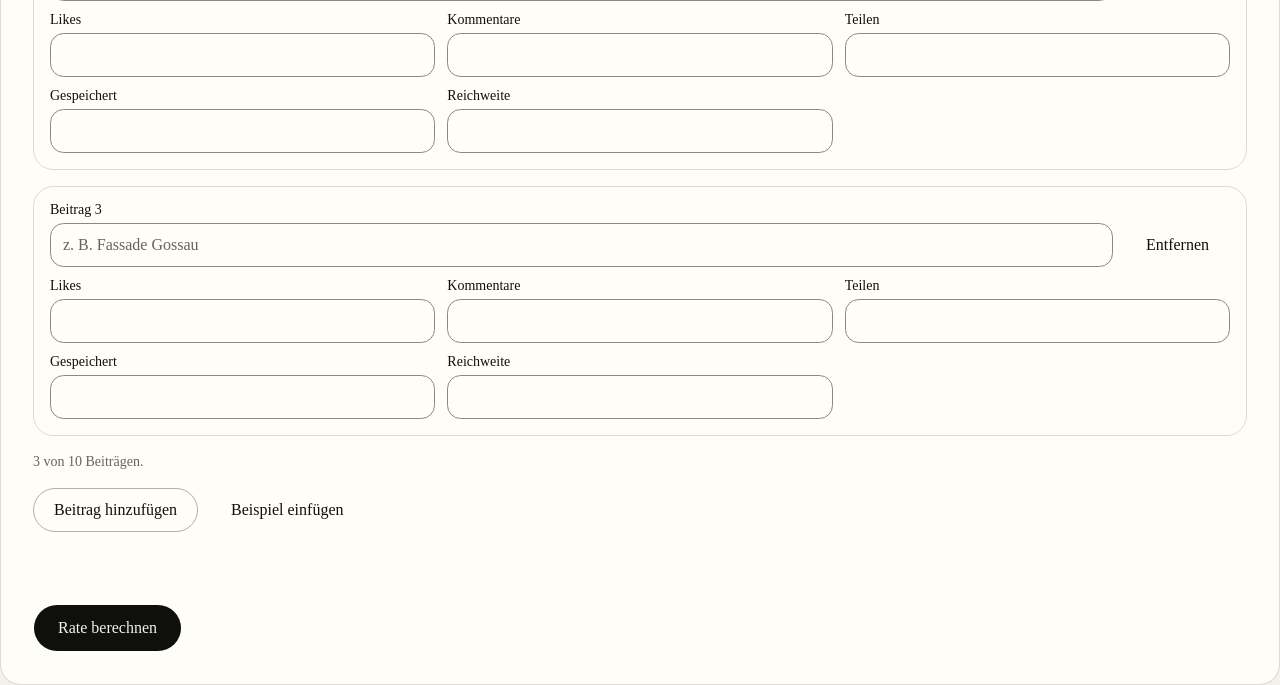
Test: Engagement-Rate-Rechner im Browser › meldet fehlende Follower und fehlende Zahlen in einem role=alert und zeigt kein Ergebnis
(page scrolled)
Click the button "Rate berechnen" at x=108, y=628, box [33,604,182,652]
(page scrolled)
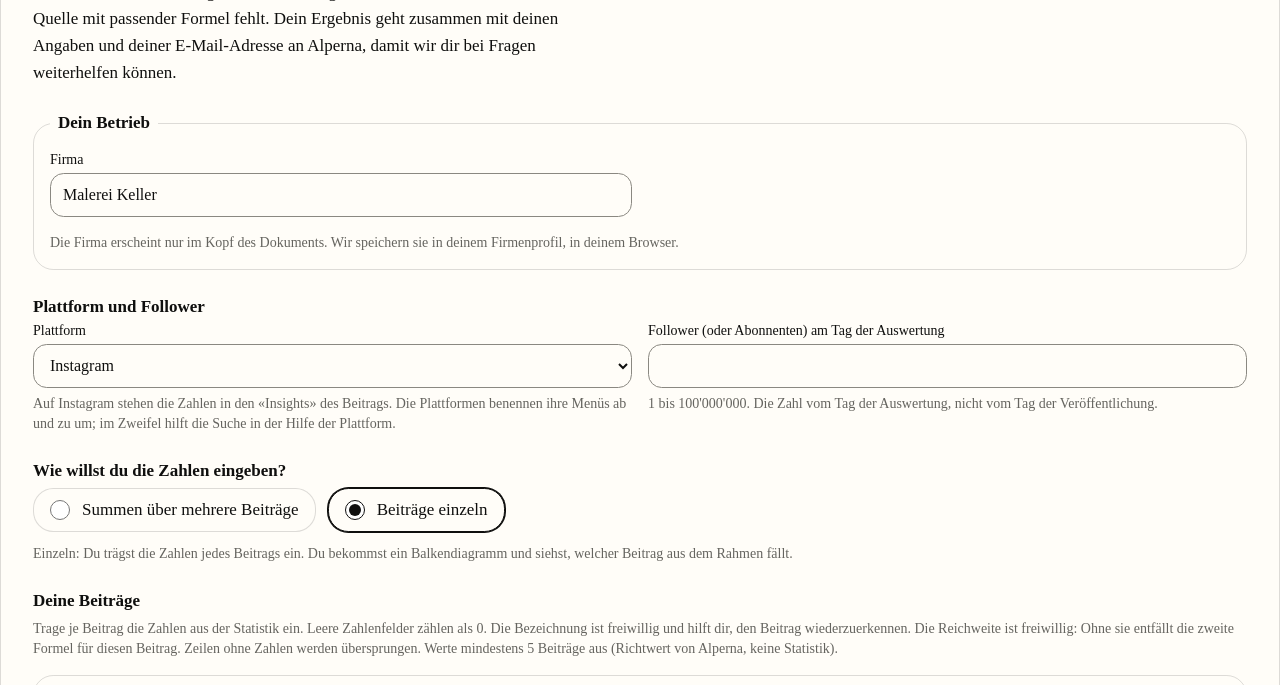
Type "1240" into the number field labelled "Follower (oder Abonnenten) am Tag der Auswertung" at x=948, y=366, box [648,344,1247,388]
(page scrolled)
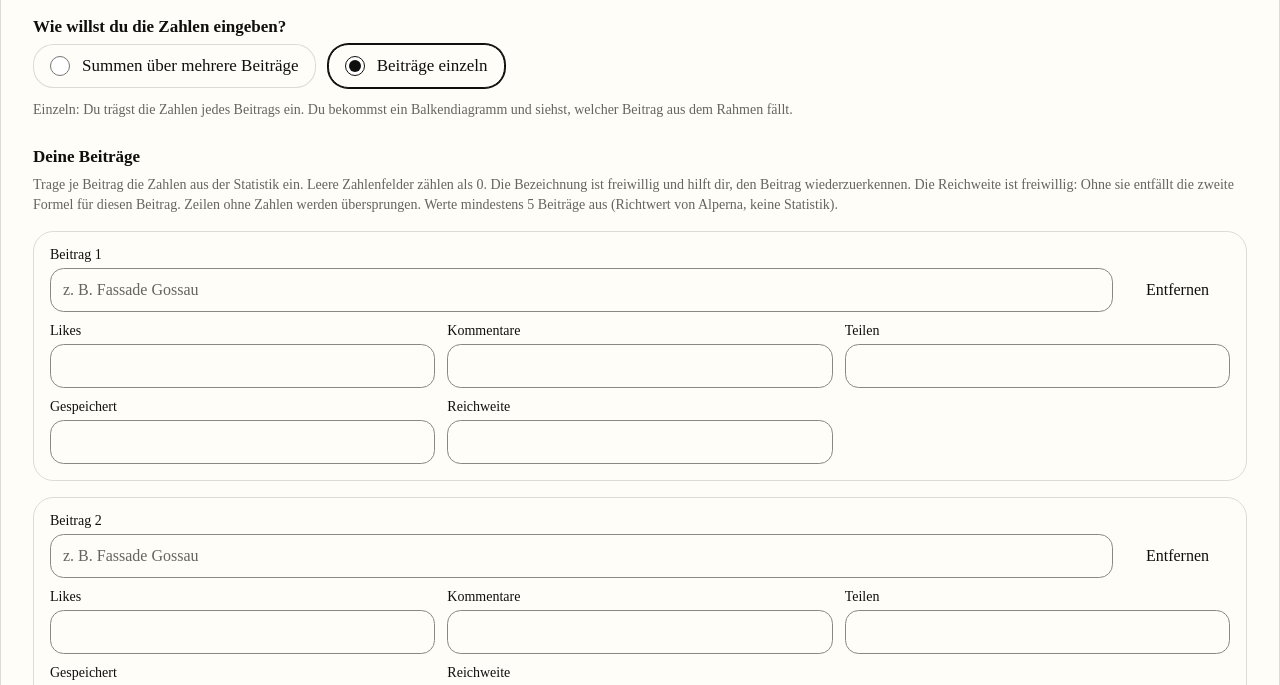
Type "1.5" into the number field named "Beitrag 1: Likes" at x=243, y=366, box [50,344,435,388]
(page scrolled)
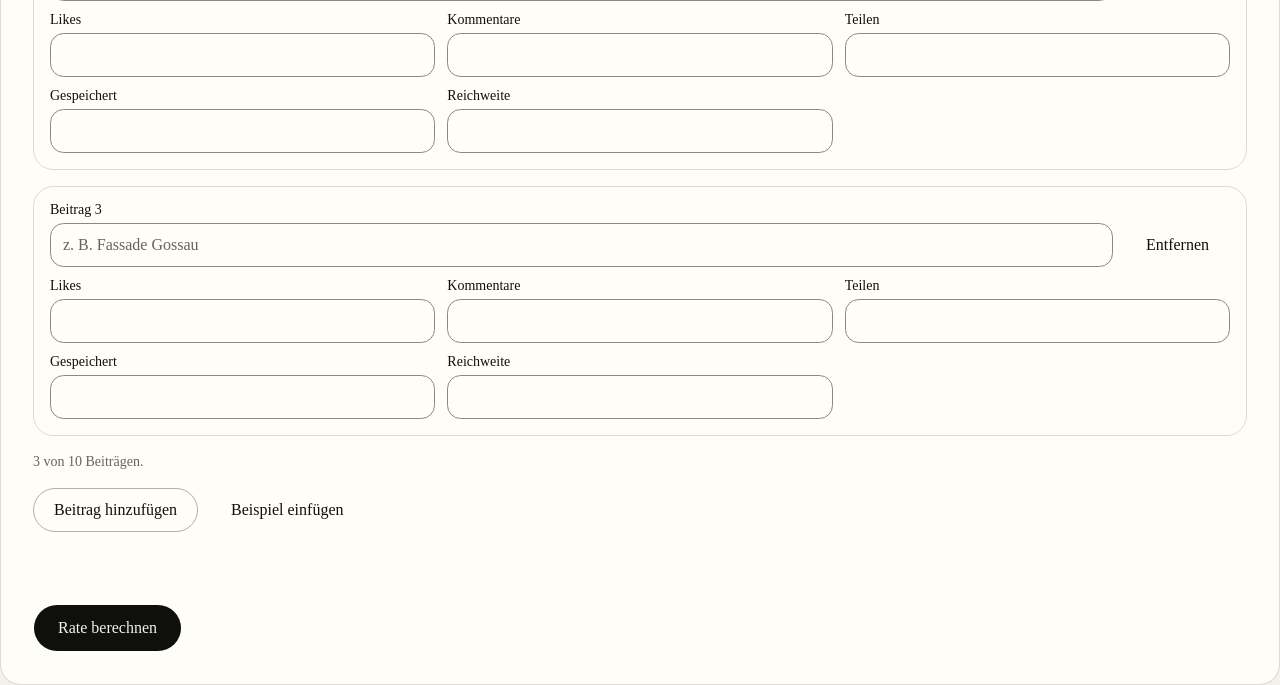
Click the button "Rate berechnen" at x=108, y=628, box [33,604,182,652]
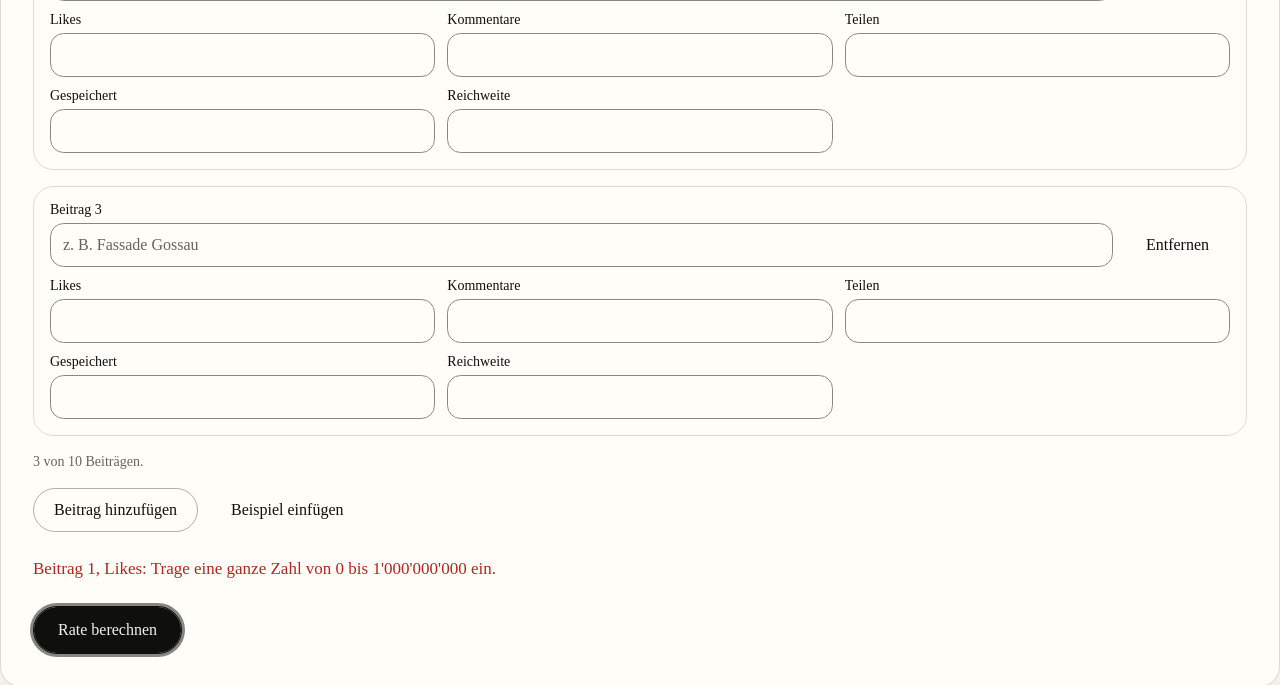
Result: the message "Beitrag 1, Likes: Trage eine ganze Zahl von 0 bis 1'000'000'000 ein." is shown at [33,559,496,578]
